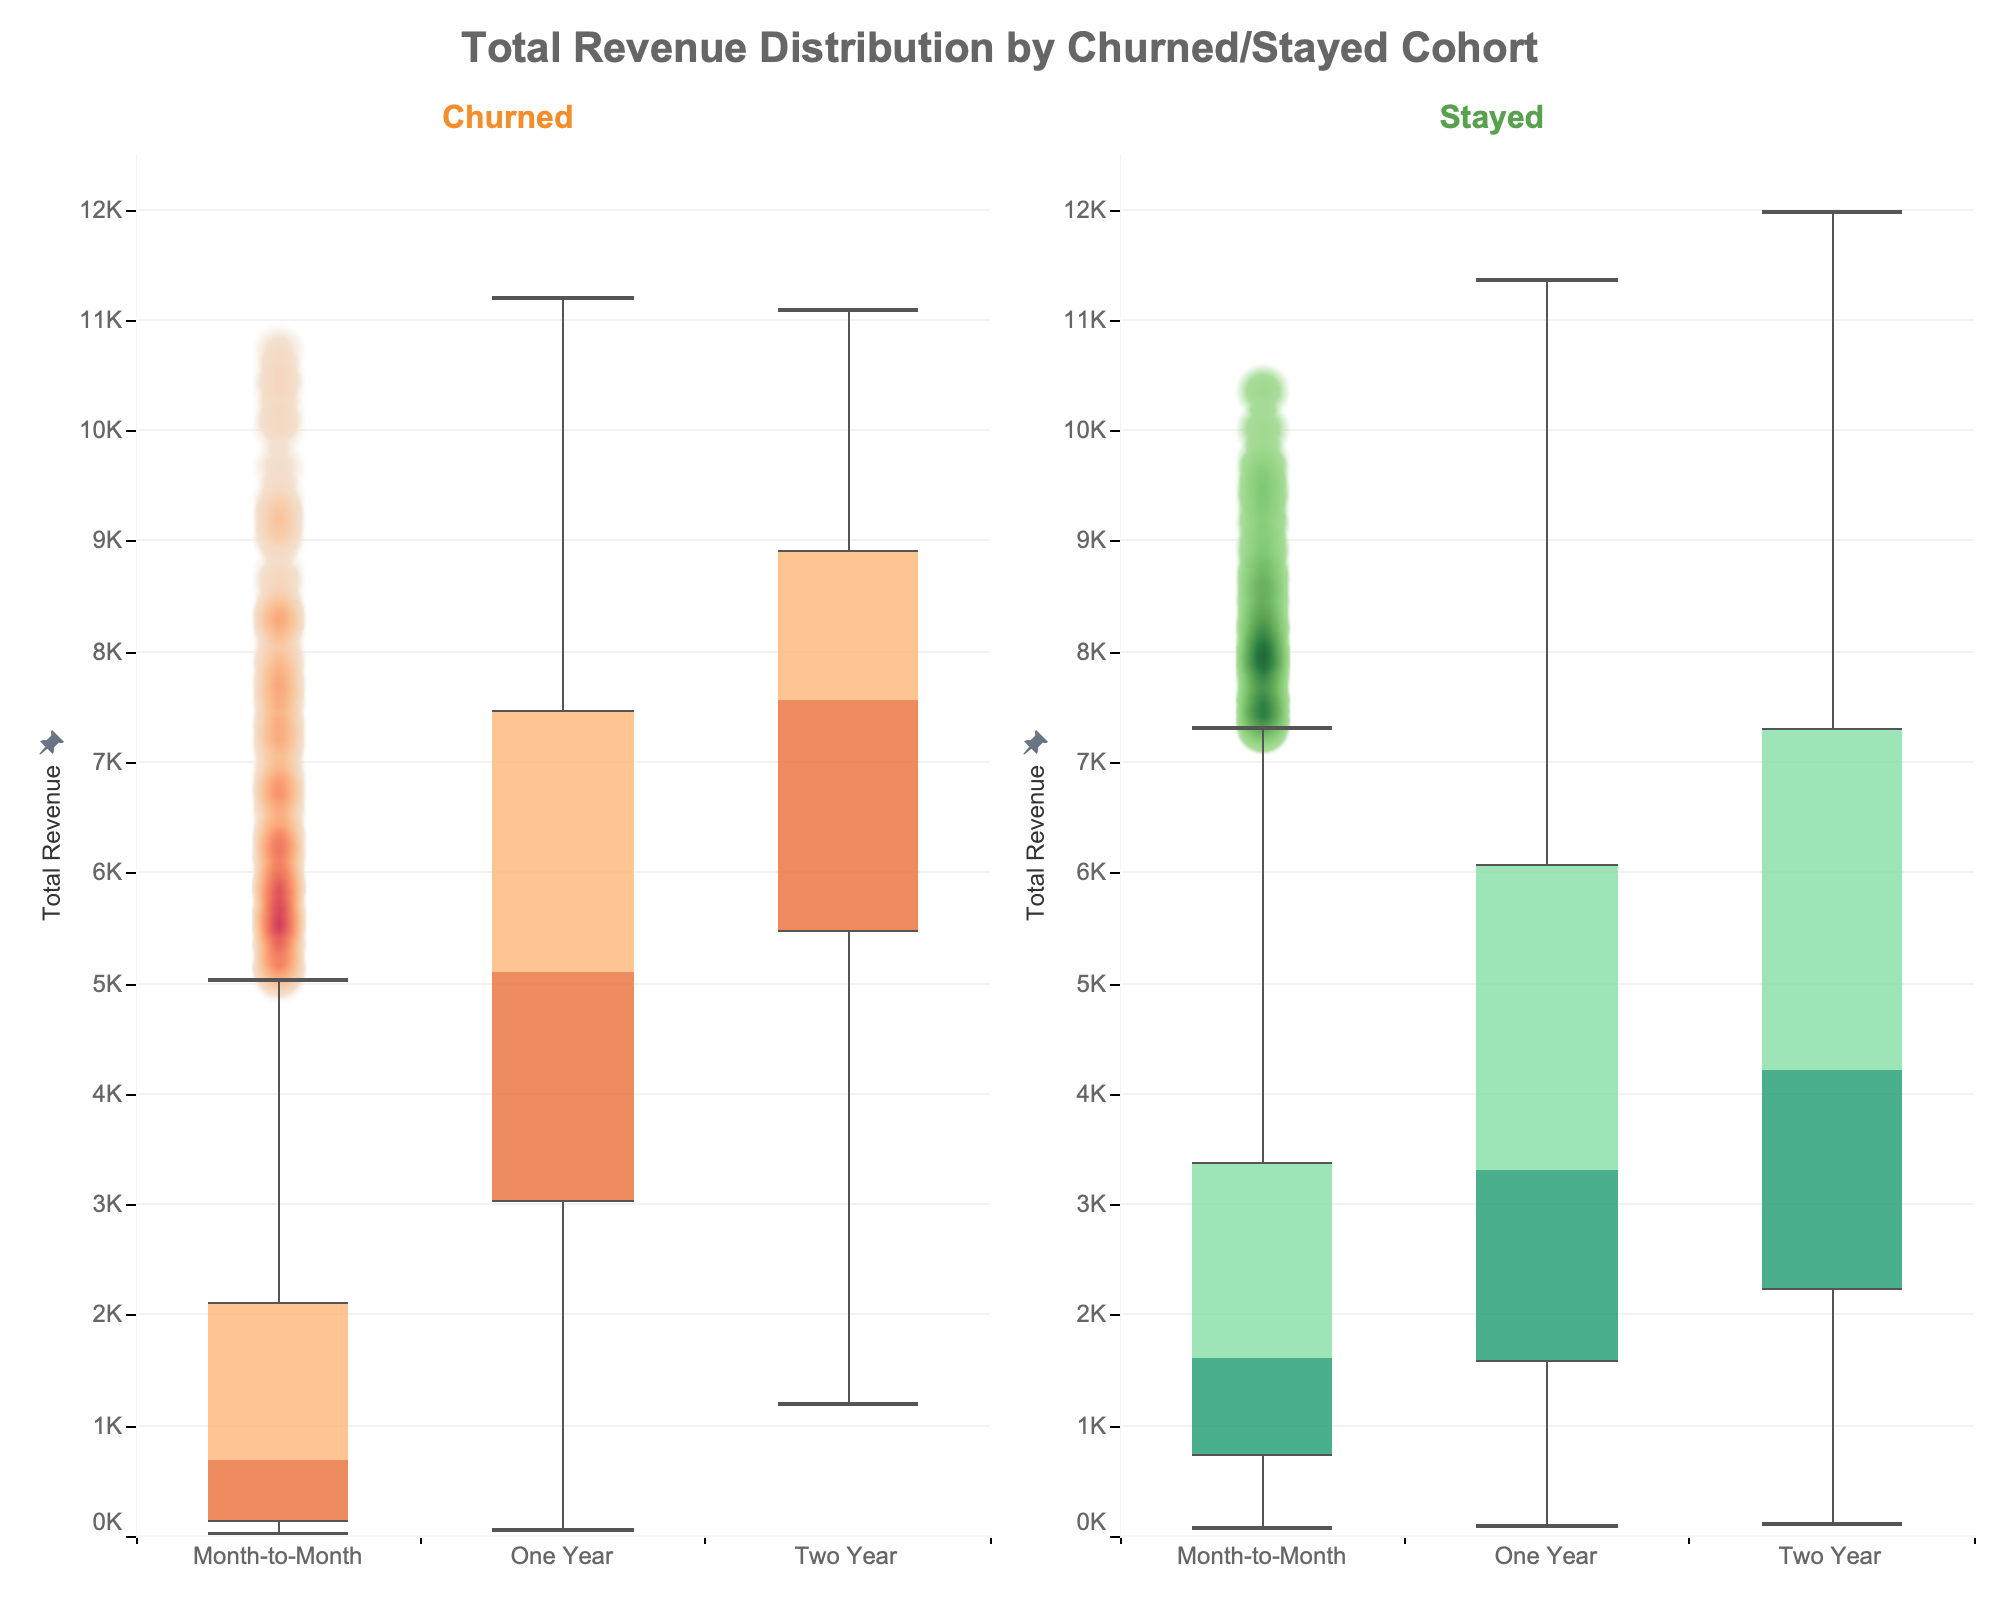

Layout of this report page (visuals, bound fields, positions):
{"tool":"tableau","page":{"name":"Churners vs. Stayers, Total Rev","canvas":[1000,800],"ordinal":1},"visuals":[{"type":"text","box":[8,8,984,32]},{"type":"worksheet","title":"Churned, Total Revenue","mark":"Heatmap","rows":["Total Revenue"],"cols":["Contract"],"box":[8,40,492,752]},{"type":"worksheet","title":"Stayed, Total Revenue","mark":"Heatmap","rows":["Total Revenue"],"cols":["Contract"],"box":[500,40,492,752]}]}

Visuals, with their boxes in screenshot pixels (x1, y1, x2, y2), scaled from the page's 1000x800 canvas onto the 2000x1600 screenshot:
text: x1=16, y1=16, x2=1984, y2=80
"Churned, Total Revenue" worksheet (Heatmap marks): x1=16, y1=80, x2=1000, y2=1584
"Stayed, Total Revenue" worksheet (Heatmap marks): x1=1000, y1=80, x2=1984, y2=1584
